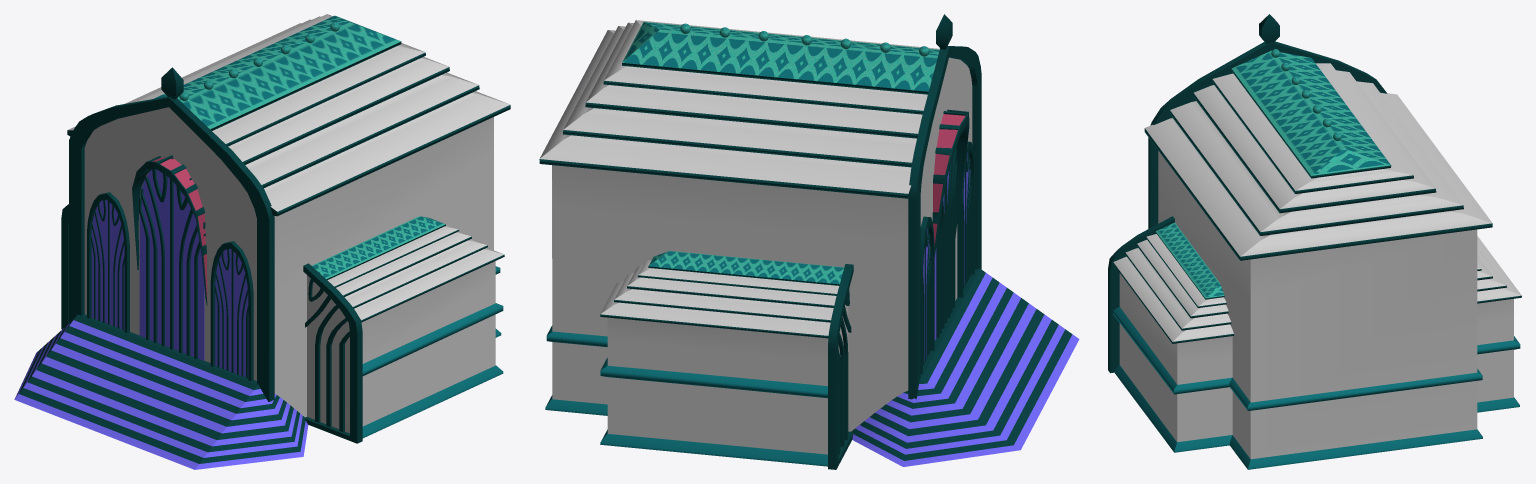
File: Maison1.obj
3 renders of one model, left to right at view 1: azimuth 30°, elevation 25°; view 2: azimuth 150°, elevation 25°; view 3: azimuth 270°, elevation 25°, orthographic. The views are drawn at different scales.
Parts seen in each view (by area): view 1: polySurface7142; view 2: polySurface7142; view 3: polySurface7142.
Boxes of the visible parts, <box> form: polySurface7142: <box>14,14,510,469</box>; polySurface7142: <box>539,14,1079,469</box>; polySurface7142: <box>1108,14,1521,469</box>.
Size of the model in its own units: 1.45 by 1.07 by 1.28.
